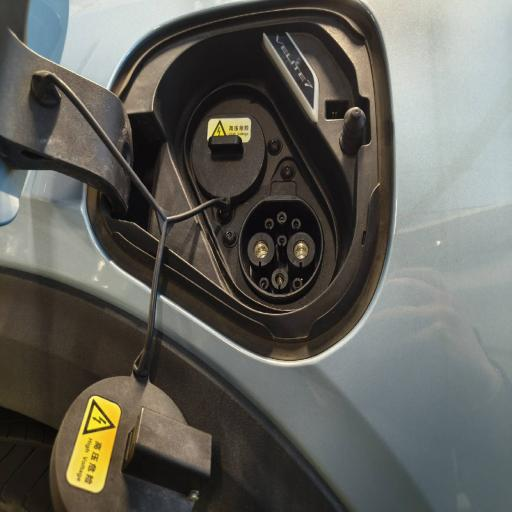DC_hole: (286, 230, 317, 270), (246, 230, 275, 269)
PE: (271, 267, 289, 291)
charging_port: (237, 192, 326, 302)
